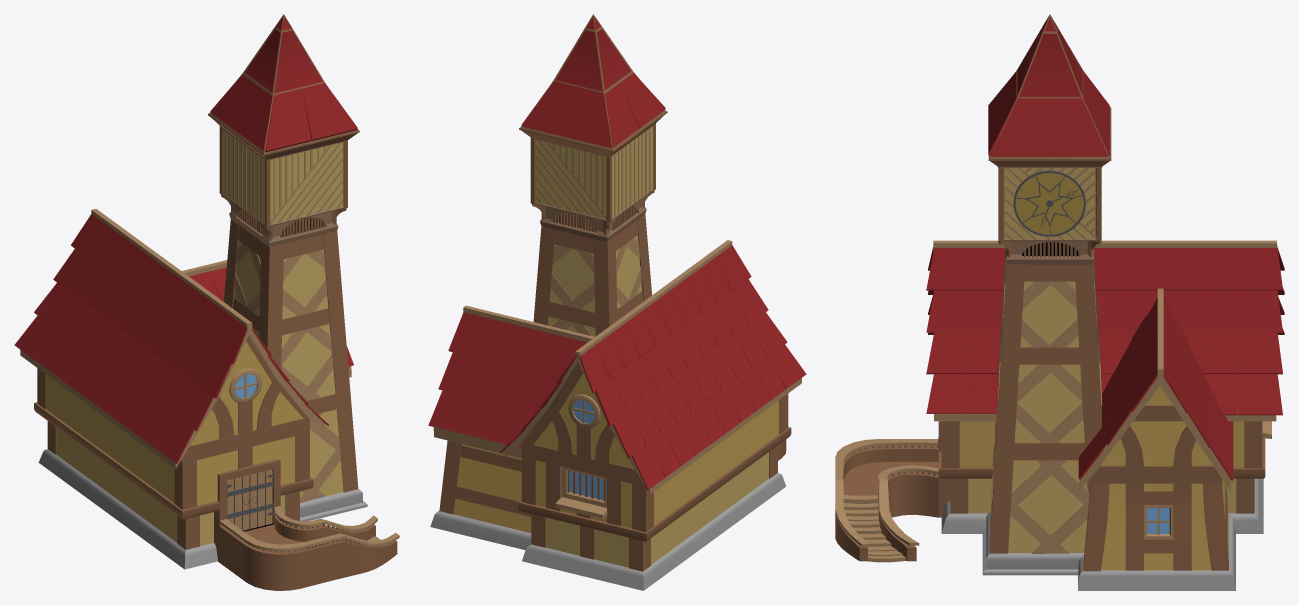
File: townhall.glb
The picture shows the model from 3 angles, left to right: view 1: azimuth 30°, elevation 25°; view 2: azimuth 150°, elevation 25°; view 3: azimuth 270°, elevation 25°; orthographic projection. The views are drawn at different scales.
Visible parts, largest first — view 1: town hall; view 2: town hall; view 3: town hall.
Part boxes in pixels (left/top/right/bottom): town hall: left=14, top=14, right=399, bottom=590; town hall: left=428, top=14, right=806, bottom=590; town hall: left=835, top=14, right=1284, bottom=590.
Size of the model in its own units: 5.37 by 9.98 by 7.62.
